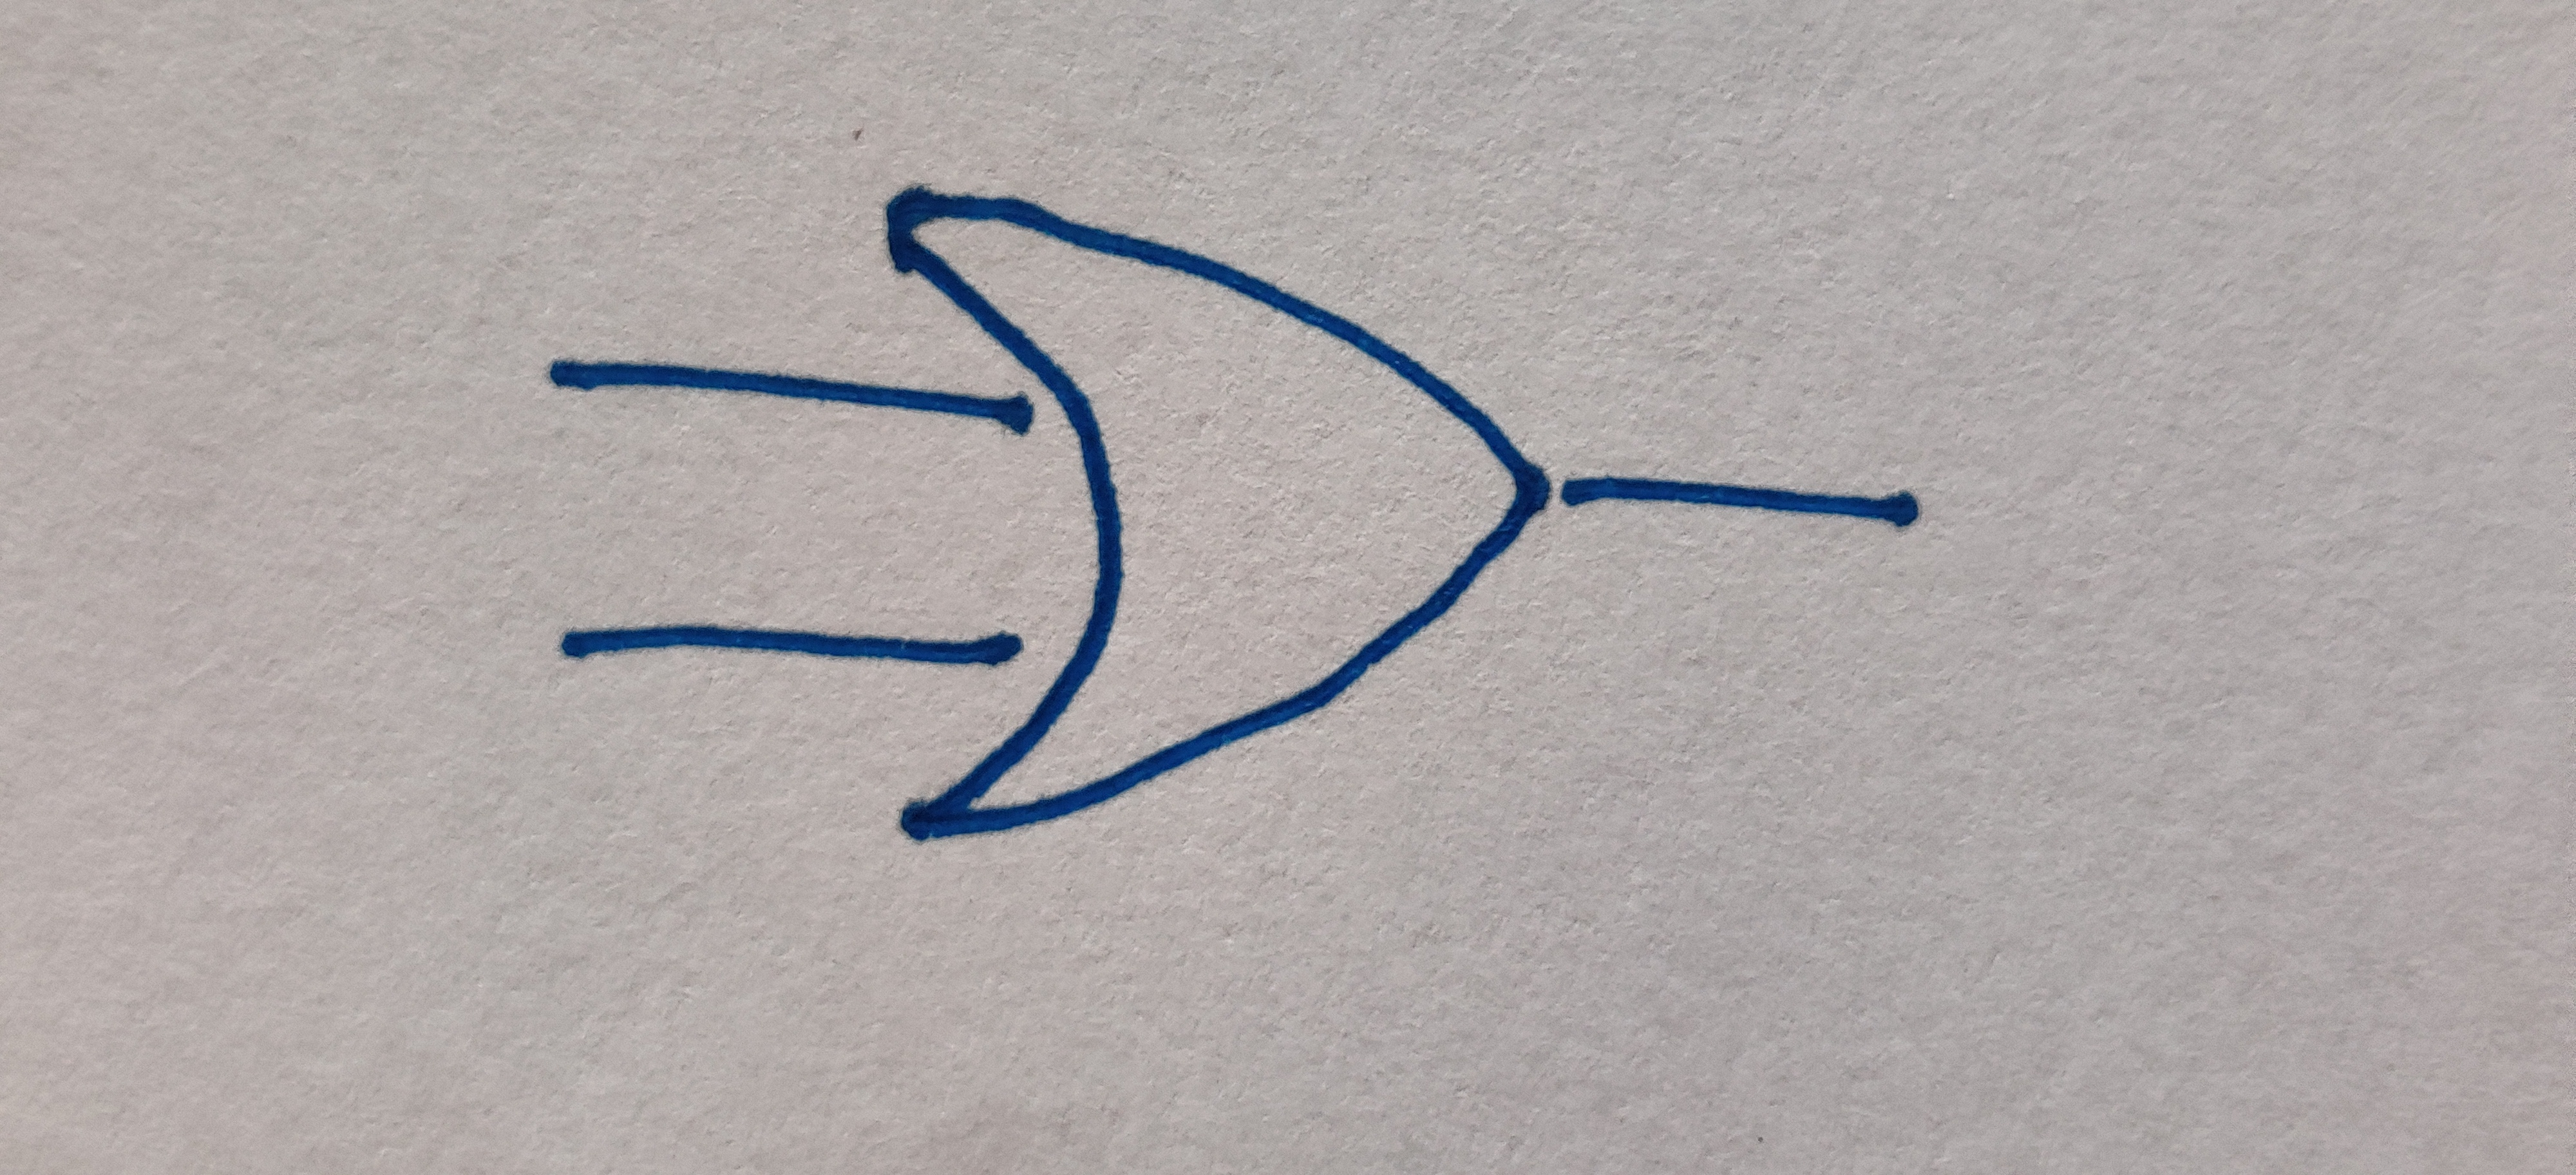or: (890, 182, 1548, 840)
